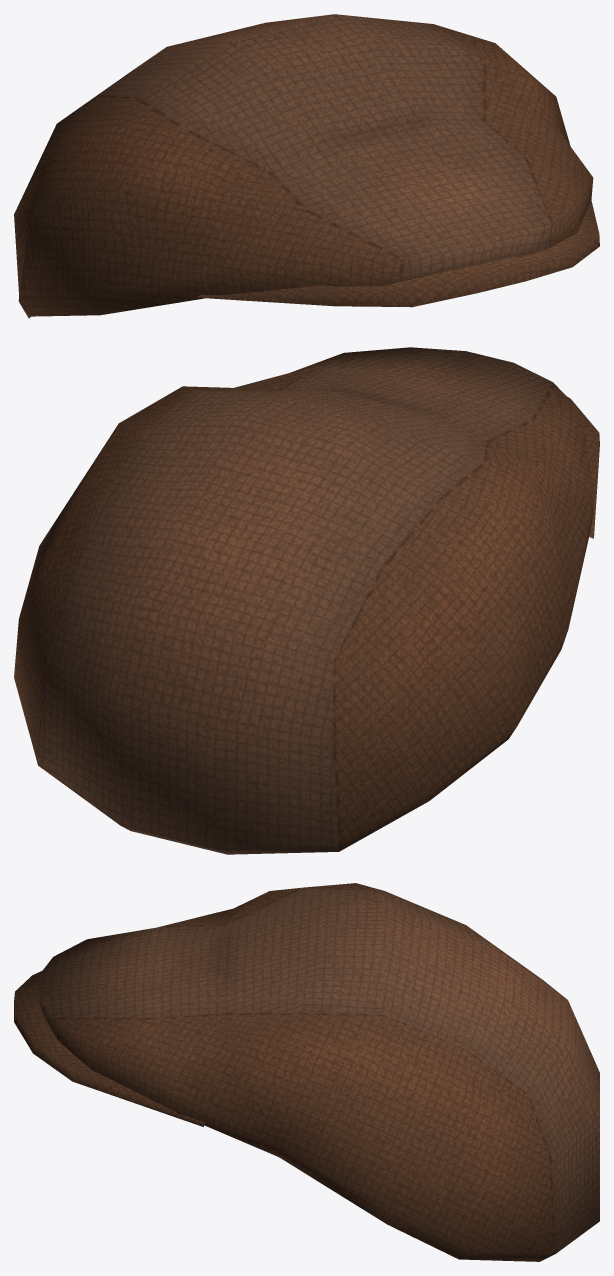
The model's file is Hat_Fisher.FBX.
3 renders of one model, top to bottom at view 1: azimuth 30°, elevation 25°; view 2: azimuth 150°, elevation 25°; view 3: azimuth 270°, elevation 25°, orthographic. The views are drawn at different scales.
Parts seen in each view (by area): view 1: Hat_Fisher; view 2: Hat_Fisher; view 3: Hat_Fisher.
Boxes of the visible parts, left/top/right/bottom form: Hat_Fisher: left=14, top=14, right=599, bottom=318; Hat_Fisher: left=14, top=347, right=599, bottom=854; Hat_Fisher: left=14, top=883, right=599, bottom=1261.
Size of the model in its own units: 228 by 148 by 272.
